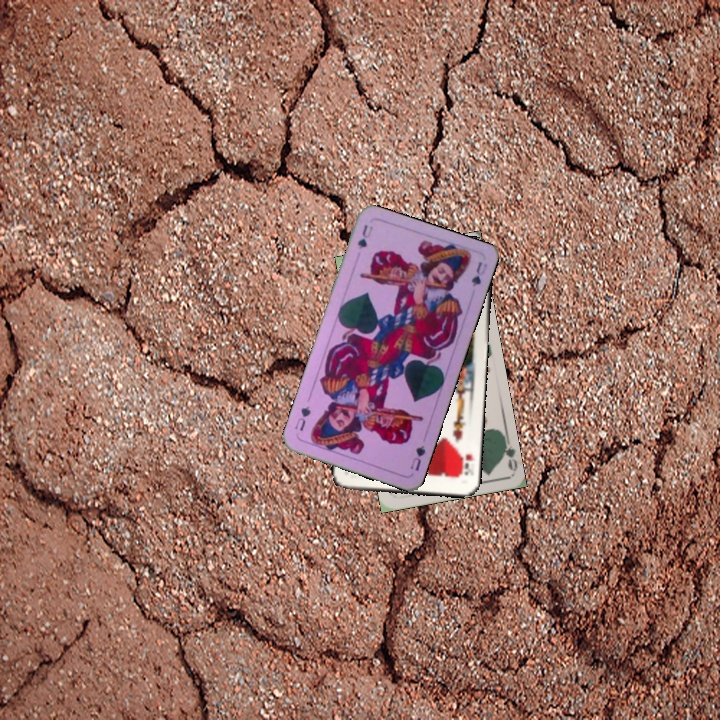GO: (497, 432, 519, 473)
GU: (353, 220, 376, 252), (406, 441, 428, 474)
HK: (456, 448, 475, 480)
